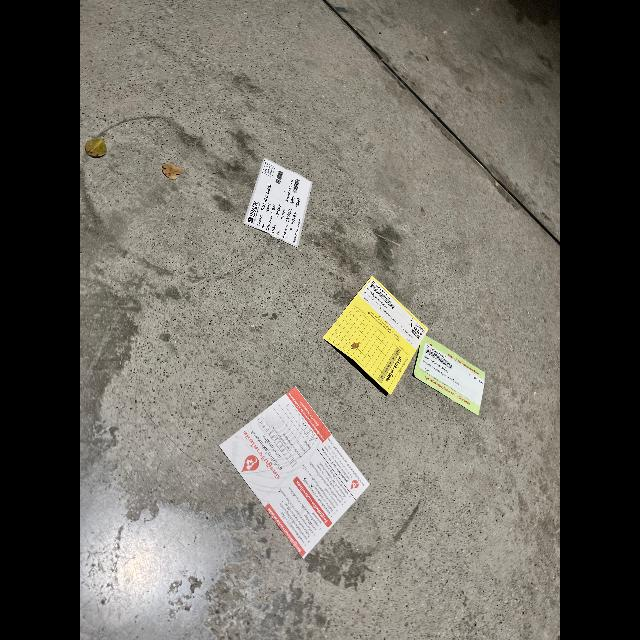scrap_paper: (208, 390, 372, 558), (325, 278, 431, 397), (235, 151, 322, 249), (412, 332, 491, 416)
